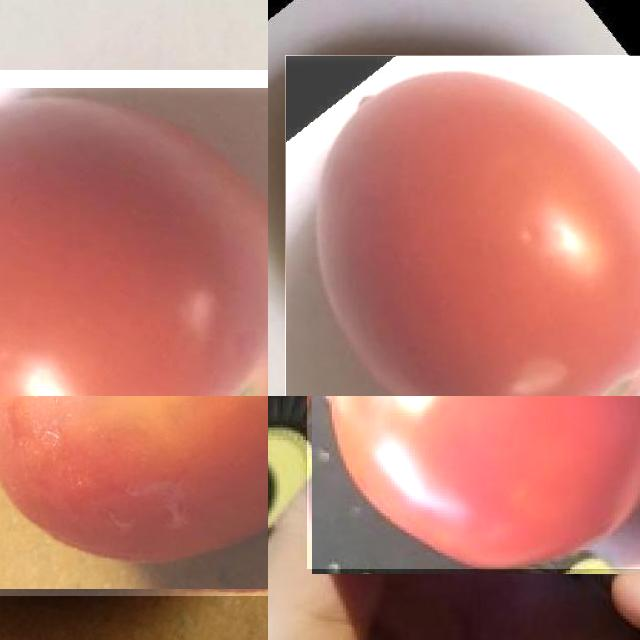Fresh Tomato: (285, 55, 640, 396), (0, 69, 268, 396), (306, 396, 640, 568), (0, 396, 268, 596)
